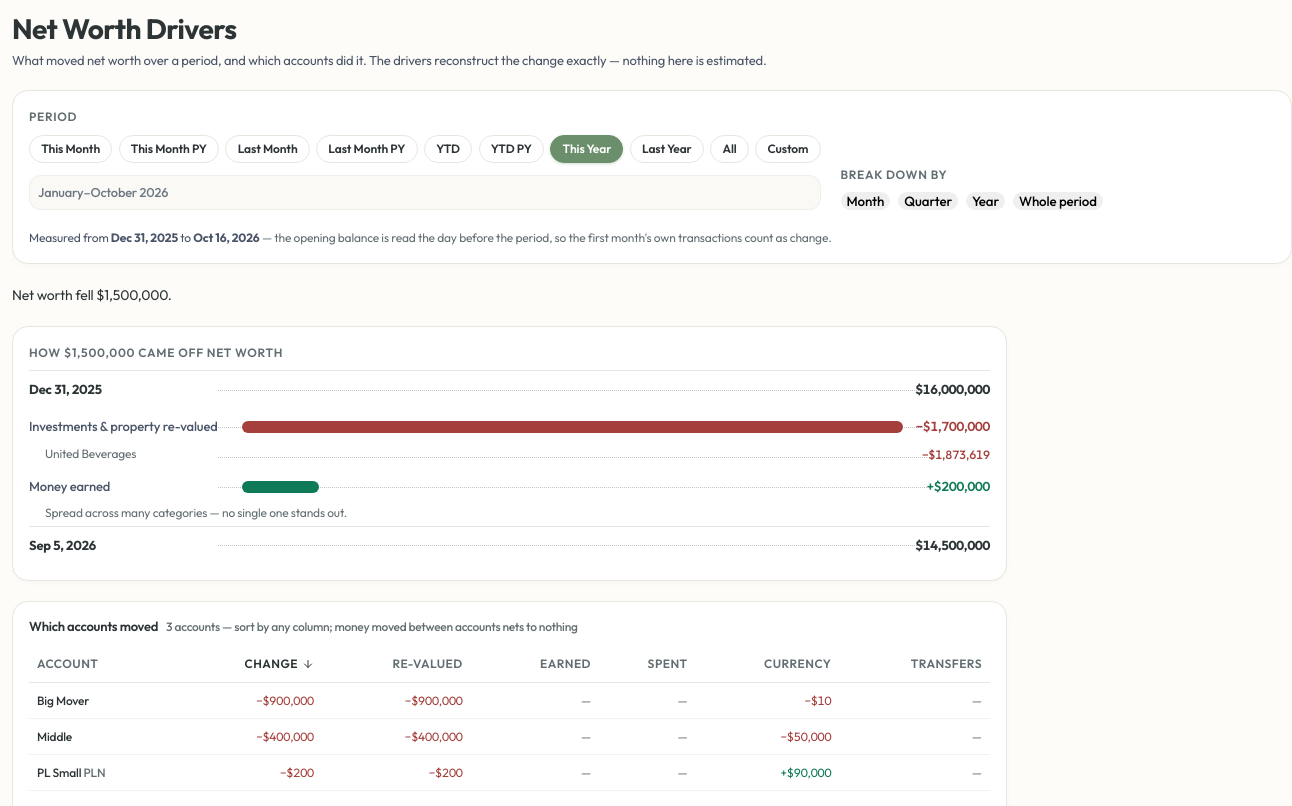
it: NetWorthDrivers › explains an inverted period instead of firing a request that 400s
Click the button "Custom".
click(788, 149)  # box [755,135,820,163]
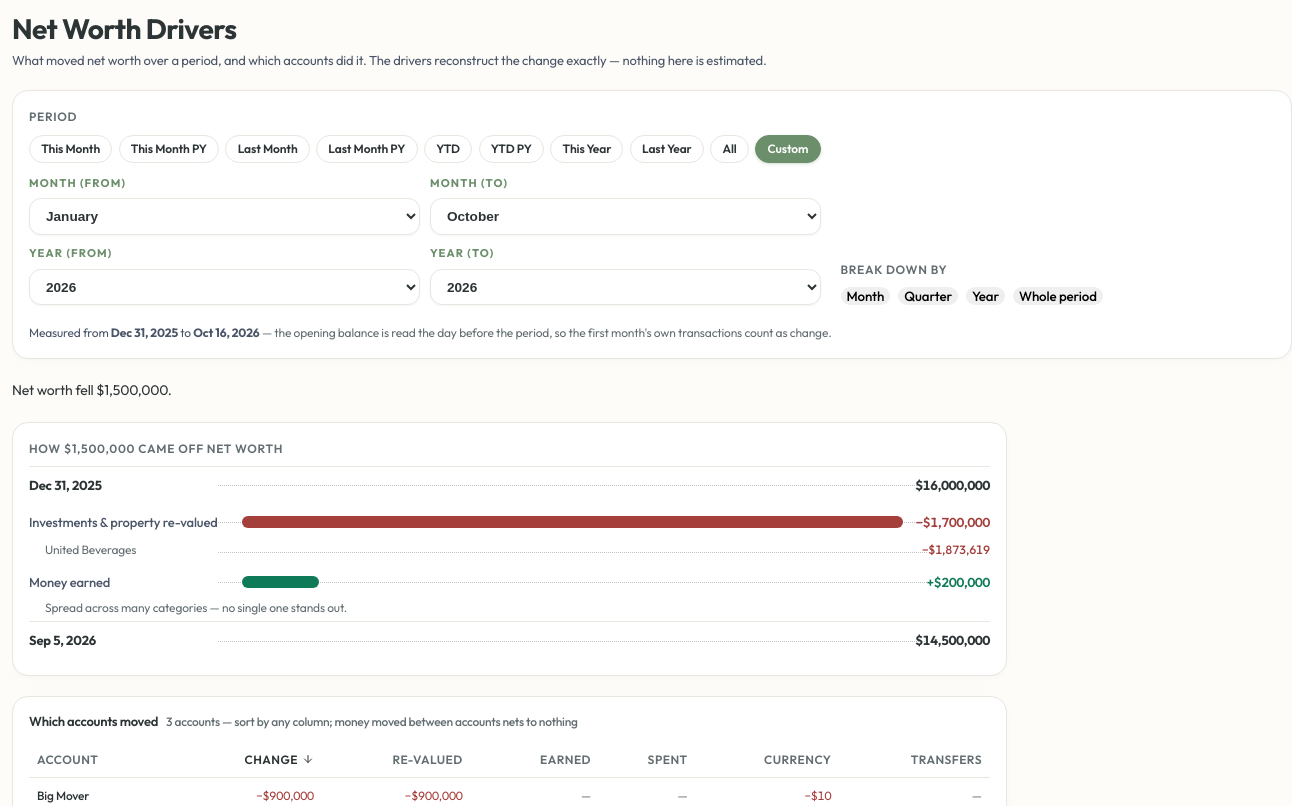
Select "June" in the dropdown labelled "Month (from)" at (224, 217), box [29,198,420,235]
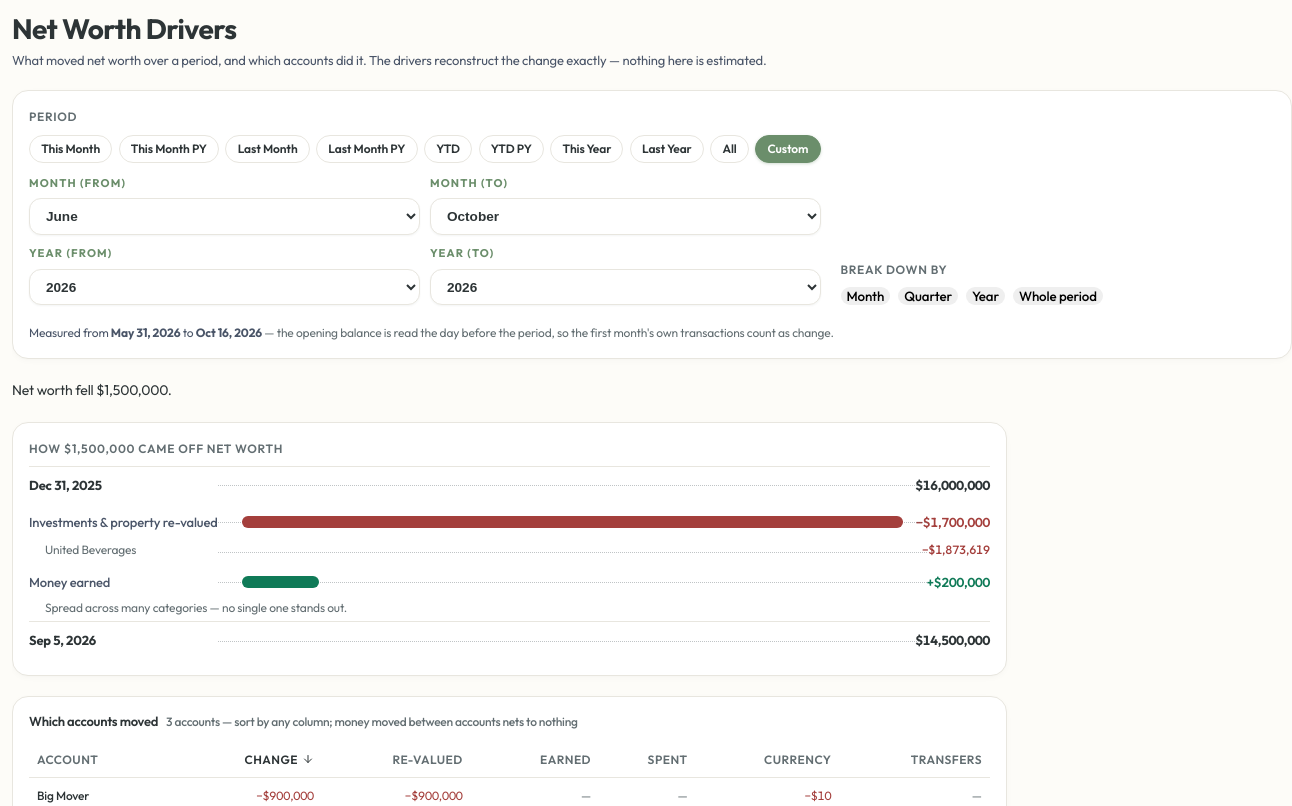
Select "February" in the dropdown labelled "Month (to)" at (625, 217), box [430,198,821,235]
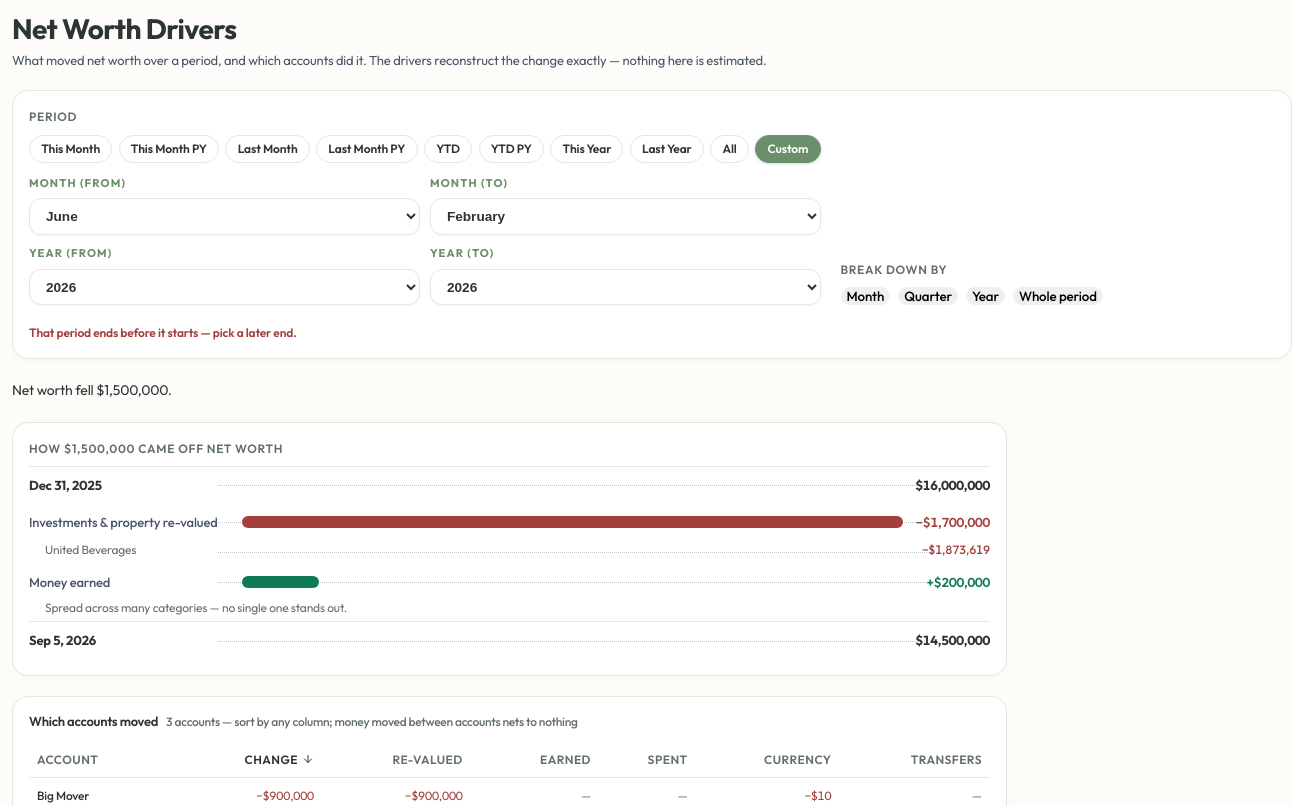
Check: the text "That period ends before it starts — pick a later end." is shown, box [29,325,296,340]
